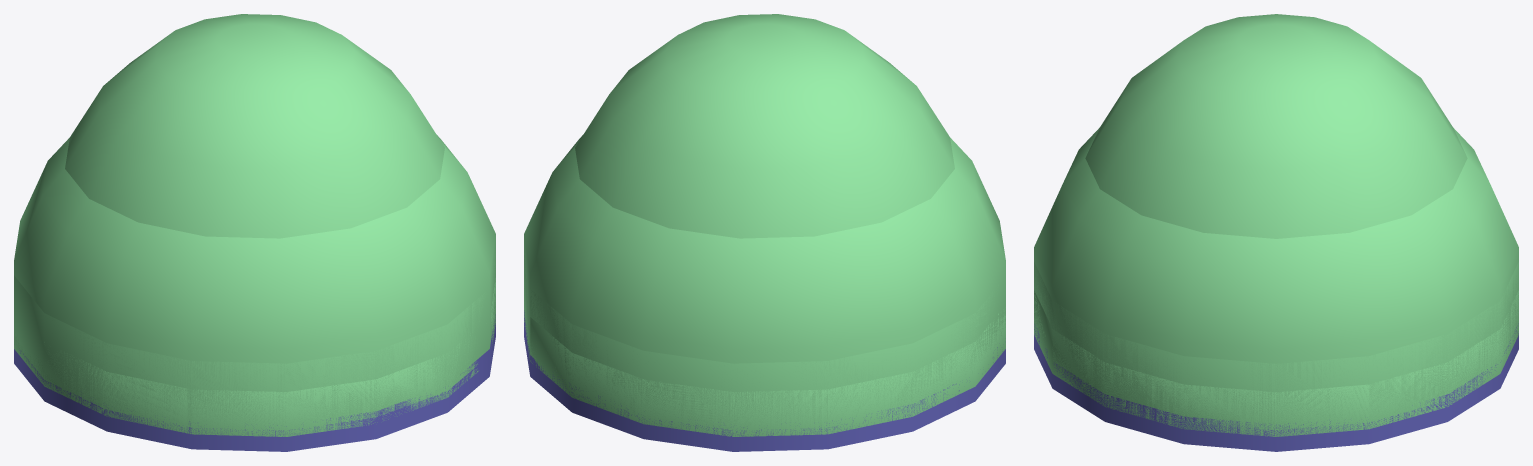
File: 5Heads.fbx
3 views of the same model, side by side, from view 1: azimuth 30°, elevation 25°; view 2: azimuth 150°, elevation 25°; view 3: azimuth 270°, elevation 25° (orthographic).
Visible parts, largest first — view 1: Head_M3, Head_M4, Head_M2, Head_M1; view 2: Head_M3, Head_M4, Head_M1, Head_M2; view 3: Head_M3, Head_M4, Head_M1, Head_M2.
Boxes of the visible parts, <box> form: Head_M3: <box>14,135,495,451</box>; Head_M4: <box>65,14,444,238</box>; Head_M2: <box>14,253,495,451</box>; Head_M1: <box>14,278,495,451</box>; Head_M3: <box>524,135,1005,451</box>; Head_M4: <box>575,14,954,238</box>; Head_M1: <box>524,309,1005,451</box>; Head_M2: <box>524,250,1005,451</box>; Head_M3: <box>1034,127,1518,451</box>; Head_M4: <box>1085,14,1467,238</box>; Head_M1: <box>1034,290,1518,451</box>; Head_M2: <box>1034,262,1518,451</box>.
Size of the model in its own units: 2 by 1.41 by 2.
